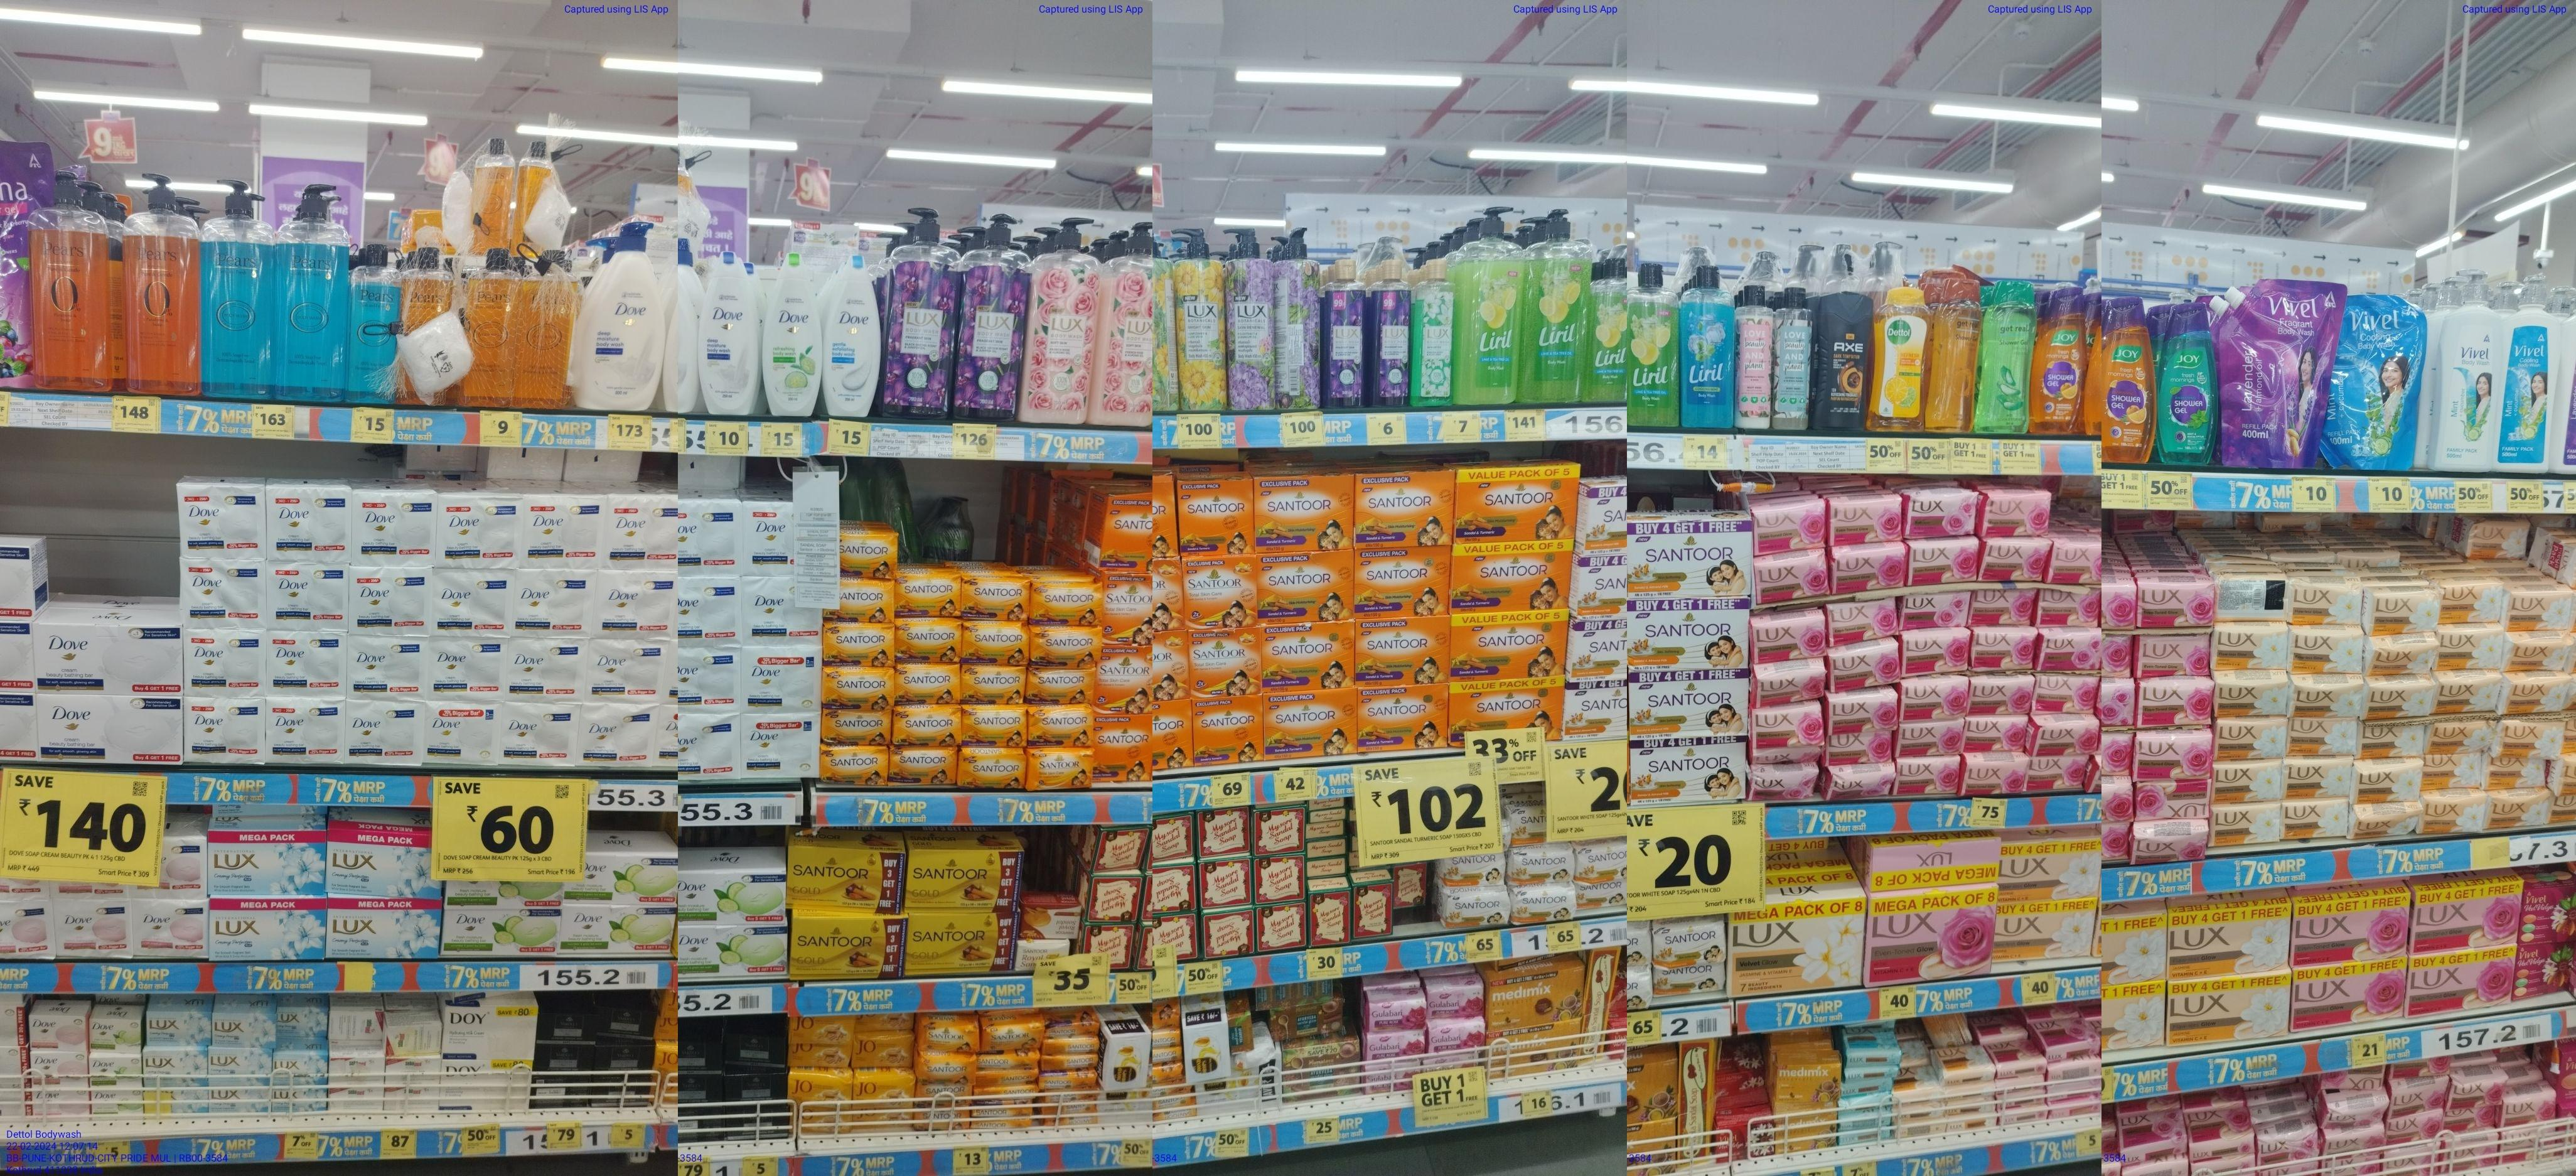Dettol_Bodywash_Refresh: (1876, 279, 1929, 430)
Dove_Deep_Moisture_Body_Wash_250ML: (705, 260, 764, 424)
Dove_Gentle_Exfoliating_Body_Wash_250ML: (831, 256, 881, 422)
Dove_Refreshing_Body_Wash_250ML: (770, 251, 823, 416)
Get_Real_Shower_Gel_Moisturising_Glycerin_300ML: (1937, 264, 1976, 435)
Joy_Shower_Gel_Mandarin_and_Lemongrass_250ML: (2104, 296, 2155, 460), (2034, 283, 2083, 435)
Joy_Shower_Gel_Mint_and_Eucalyptus_250ML: (2164, 302, 2215, 465)
Liril_Cooling_Mint_Body_Wash_250ML: (1682, 261, 1738, 425)
Liril_Lime_and_Tea_Tree_Oil_Body_Wash_250ML: (1635, 263, 1676, 429), (1592, 251, 1630, 407)
Lux_Black_Orchid_Scent_and_Juniper_Oil_Body_Wash_245ML: (1326, 251, 1370, 414), (1378, 263, 1419, 409)
Lux_Body_Wash_Skin_Detox_Freesia_Scent_and_Alove_Vera_245ML: (1426, 258, 1457, 406)
